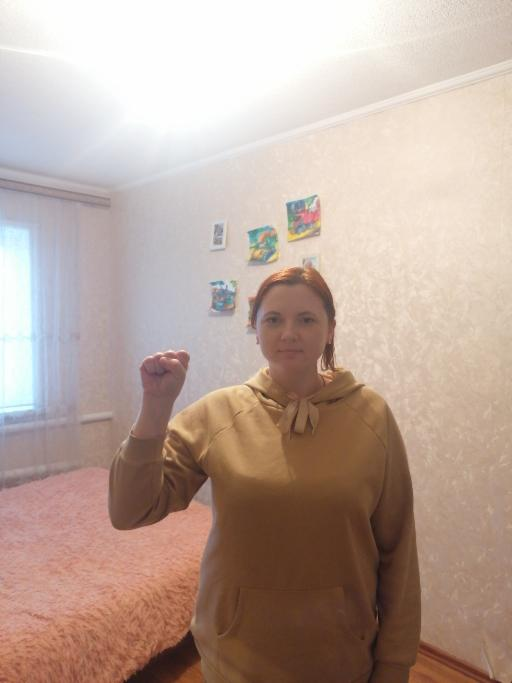fist: (137, 346, 193, 399)
